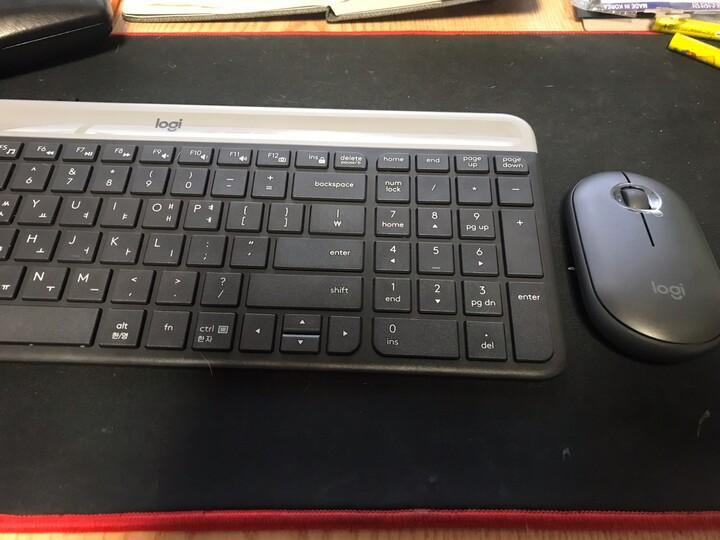book: (119, 0, 484, 23)
keyboard: (0, 99, 567, 380)
mouse: (563, 169, 719, 363)
